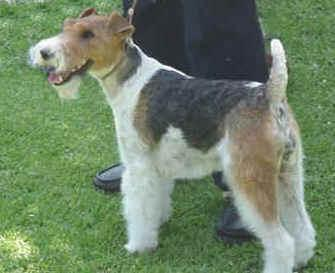wire-haired_fox_terrier: (32, 10, 316, 272)
